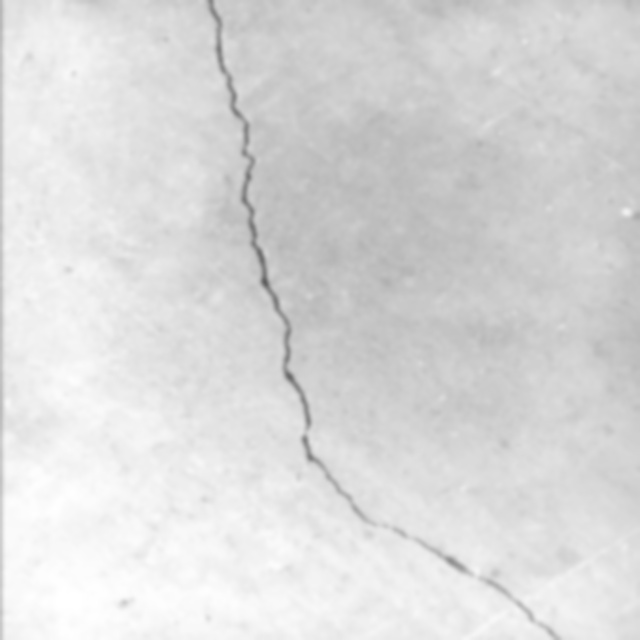SurfaceCrack: (135, 0, 639, 640)
